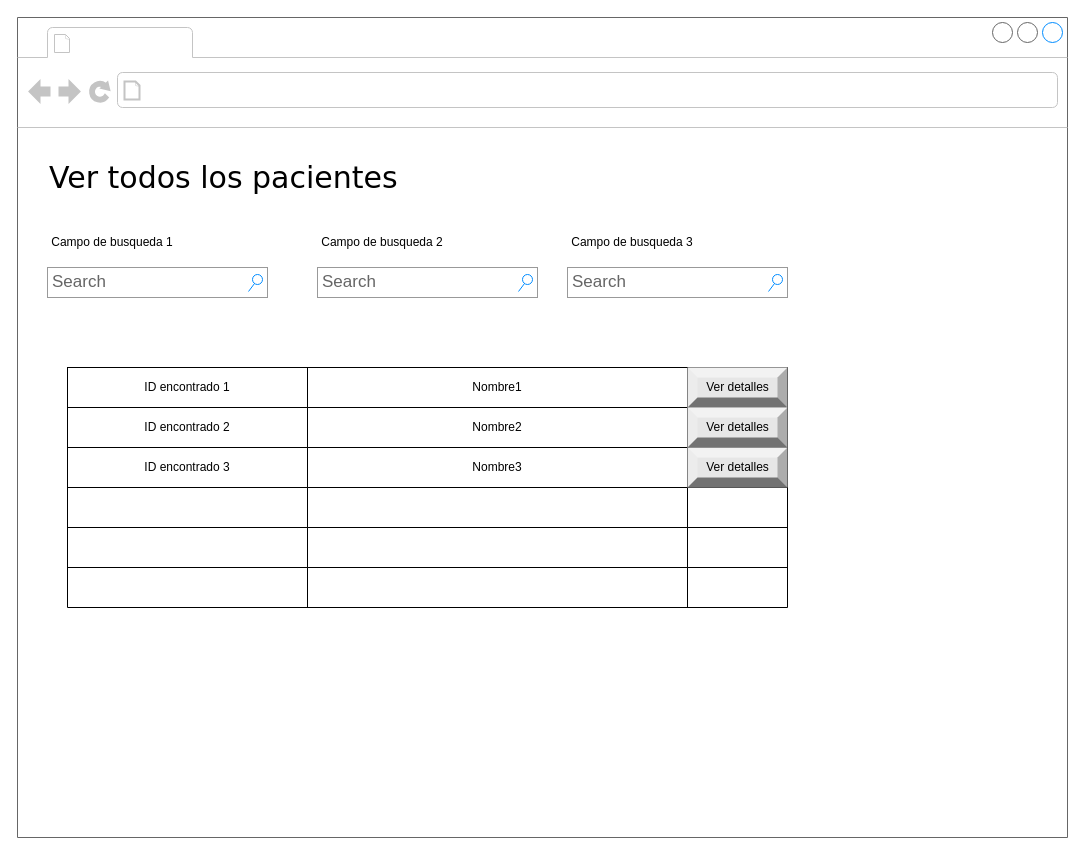
The diagram is 1085 pixels wide and 855 high, and some of its shapes have lost their labels. The box of each missing label's shape, as (x1, y1, x2, y2) in pixels:
https://www.default.com: (146, 76, 398, 104)
Page 1: (76, 28, 188, 56)
